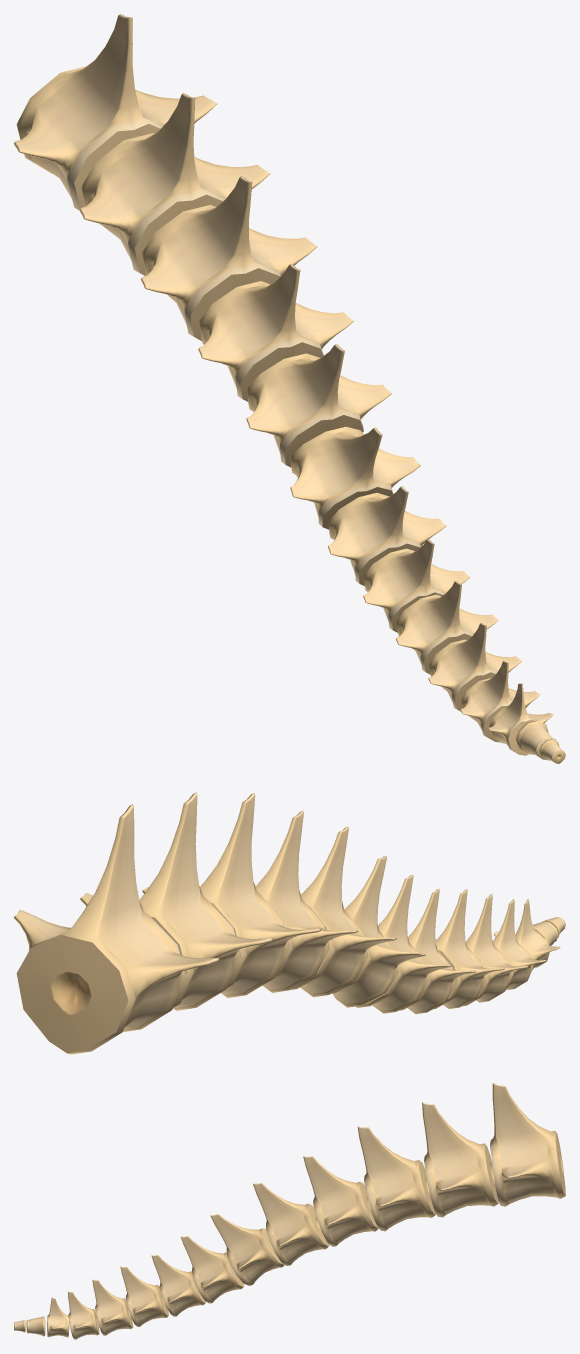
File: SpineHalfTilt2.fbx
3 views of the same model, one above another, from view 1: azimuth 30°, elevation 25°; view 2: azimuth 150°, elevation 25°; view 3: azimuth 270°, elevation 25° (orthographic). The views are drawn at different scales.
Visible parts, largest first — view 1: pCylinder14; view 2: pCylinder14; view 3: pCylinder14.
Part boxes in pixels (box(x1,y1,x2,y2)): pCylinder14: box(14, 14, 565, 763); pCylinder14: box(14, 792, 565, 1054); pCylinder14: box(14, 1083, 565, 1339).
Bounding box in the file's own units: 2.47 × 5.42 × 10.58.
